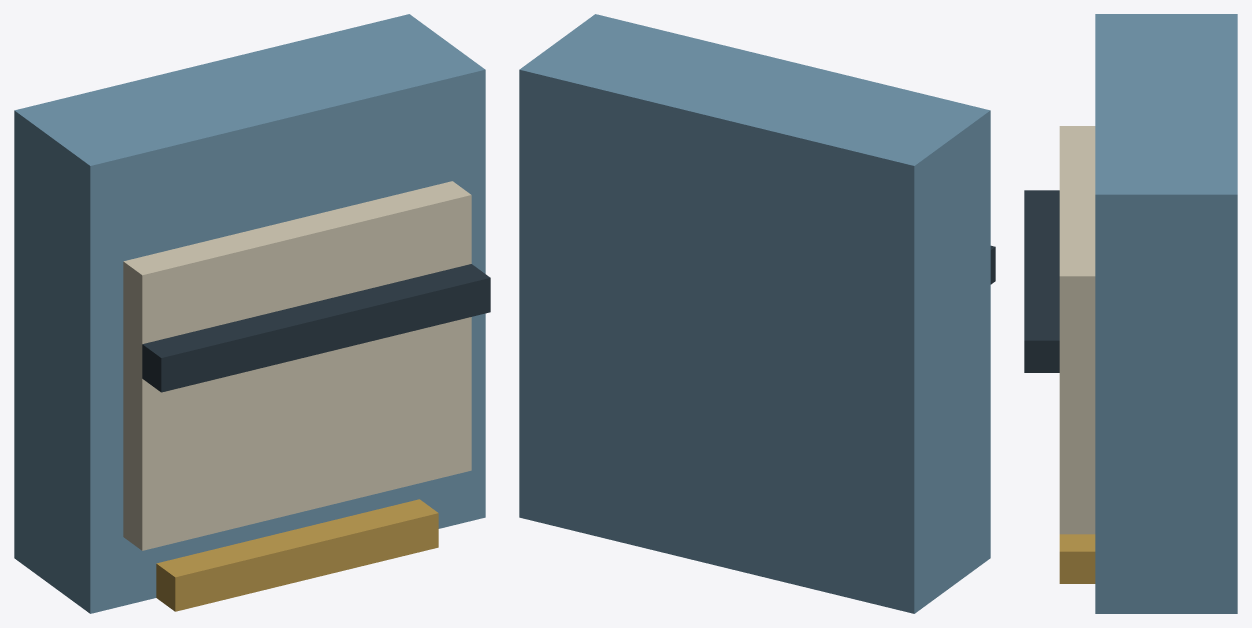
3 views of the same model, side by side, from view 1: azimuth 30°, elevation 25°; view 2: azimuth 150°, elevation 25°; view 3: azimuth 270°, elevation 25° (orthographic). The views are drawn at different scales.
Parts seen in each view (by area): view 1: Data cartridge; view 2: Data cartridge; view 3: Data cartridge.
Part boxes in pixels (x1,y1,x2,y2): Data cartridge: (14, 14, 490, 613); Data cartridge: (519, 14, 995, 613); Data cartridge: (1024, 14, 1237, 613).
Size of the model in its own units: 0.96 by 1.04 by 0.48.
